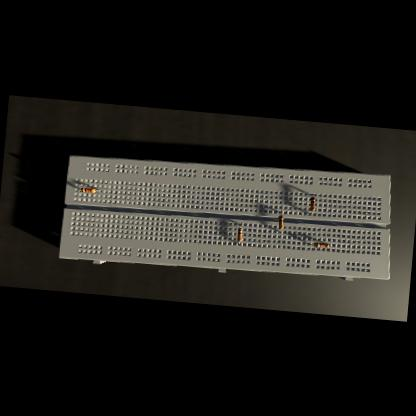breadboard: (58, 147, 398, 289)
resistor: (310, 196, 316, 210), (278, 216, 284, 230), (314, 242, 328, 248), (237, 228, 243, 242), (80, 187, 96, 192)
wire: (308, 210, 312, 214), (308, 242, 315, 244), (95, 190, 101, 192), (280, 212, 283, 215), (310, 194, 314, 196), (238, 224, 240, 228), (278, 230, 281, 232), (238, 242, 240, 244)
